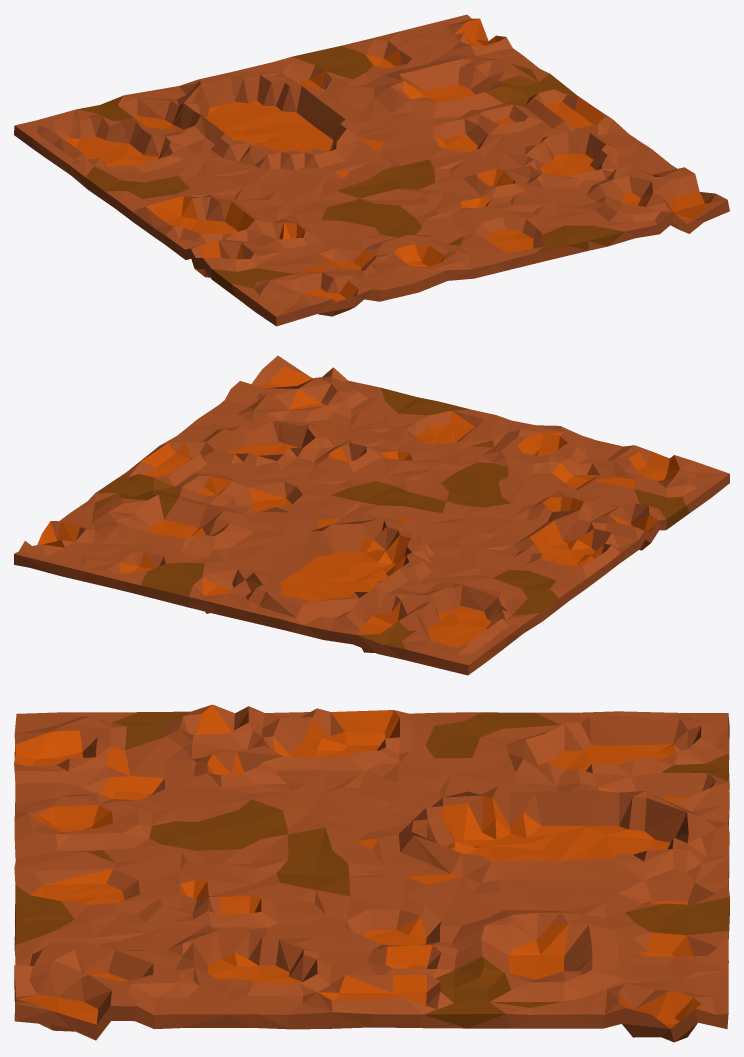
The model's file is mercuryTerrain.fbx.
The picture shows the model from 3 angles, top to bottom: view 1: azimuth 30°, elevation 25°; view 2: azimuth 150°, elevation 25°; view 3: azimuth 270°, elevation 25°; orthographic projection. The views are drawn at different scales.
Visible parts, largest first — view 1: Plane; view 2: Plane; view 3: Plane.
Part boxes in pixels (box(x1,y1,x2,y2)): Plane: box(14, 14, 729, 326); Plane: box(14, 355, 729, 675); Plane: box(14, 704, 729, 1042).
Size of the model in its own units: 4093 by 330 by 4089.
